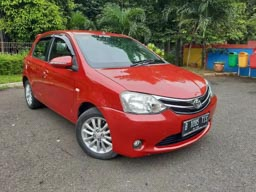plat: (183, 113, 208, 137)
